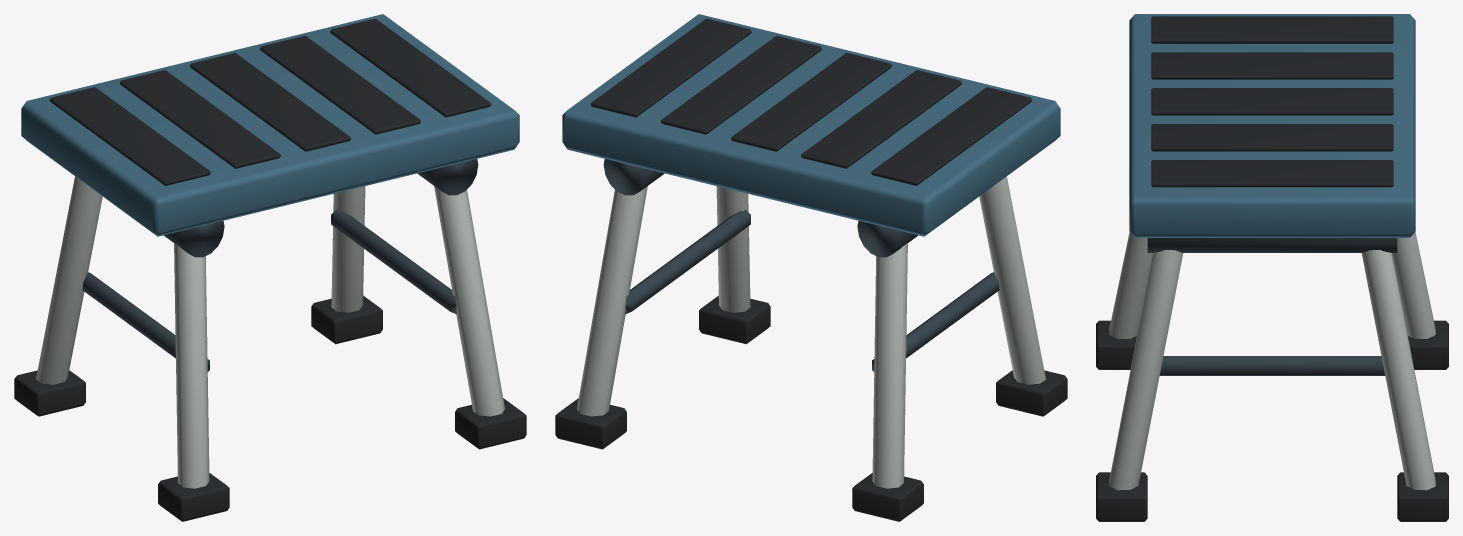
File: P097_folding_step_rebuilt.glb
The picture shows the model from 3 angles, left to right: view 1: azimuth 30°, elevation 25°; view 2: azimuth 150°, elevation 25°; view 3: azimuth 270°, elevation 25°; orthographic projection. The views are drawn at different scales.
Parts seen in each view (by area): view 1: rubber, blue, silver, shell; view 2: rubber, blue, silver, shell; view 3: rubber, blue, silver, shell.
Boxes of the visible parts, left/top/right/bottom form: rubber: left=14, top=18, right=526, bottom=521; blue: left=21, top=14, right=519, bottom=236; silver: left=36, top=176, right=504, bottom=488; shell: left=82, top=159, right=478, bottom=371; rubber: left=555, top=18, right=1067, bottom=521; blue: left=562, top=14, right=1060, bottom=236; silver: left=577, top=176, right=1045, bottom=488; shell: left=603, top=159, right=999, bottom=371; rubber: left=1096, top=16, right=1448, bottom=521; blue: left=1129, top=14, right=1415, bottom=237; silver: left=1109, top=232, right=1435, bottom=490; shell: left=1147, top=238, right=1397, bottom=375.
Bounding box in the file's own units: 0.3407 × 0.2835 × 0.2704.
